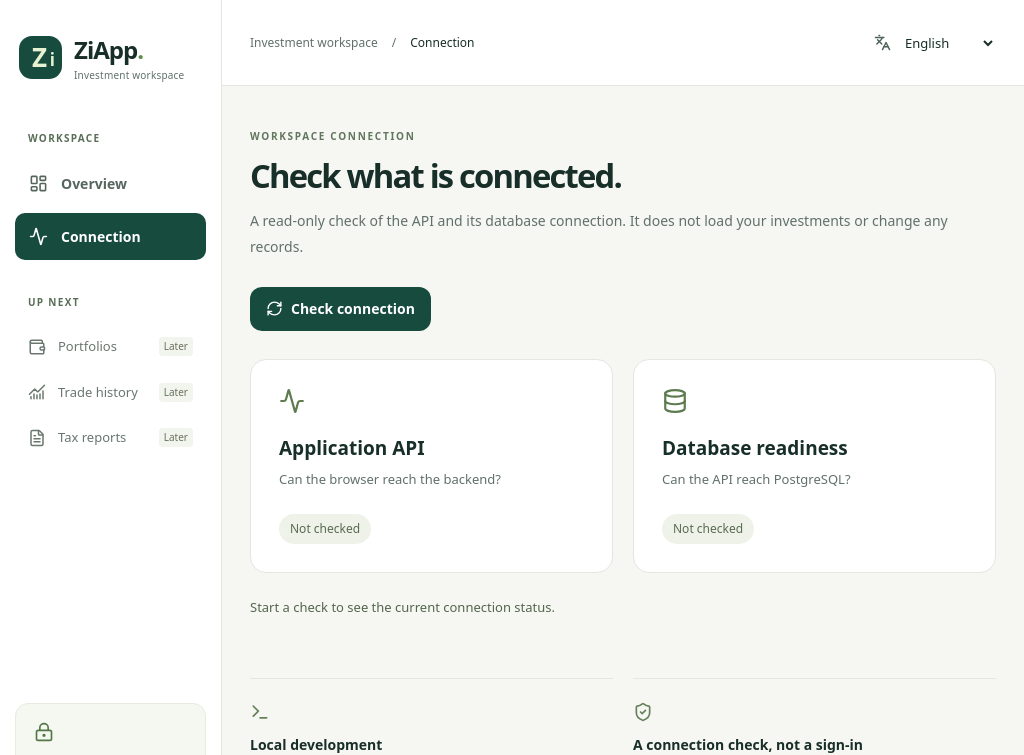
Test case: app foundation › switches languages without losing the current route
Select "Українська" in the dropdown at (946, 42), box [897,20,996,64]
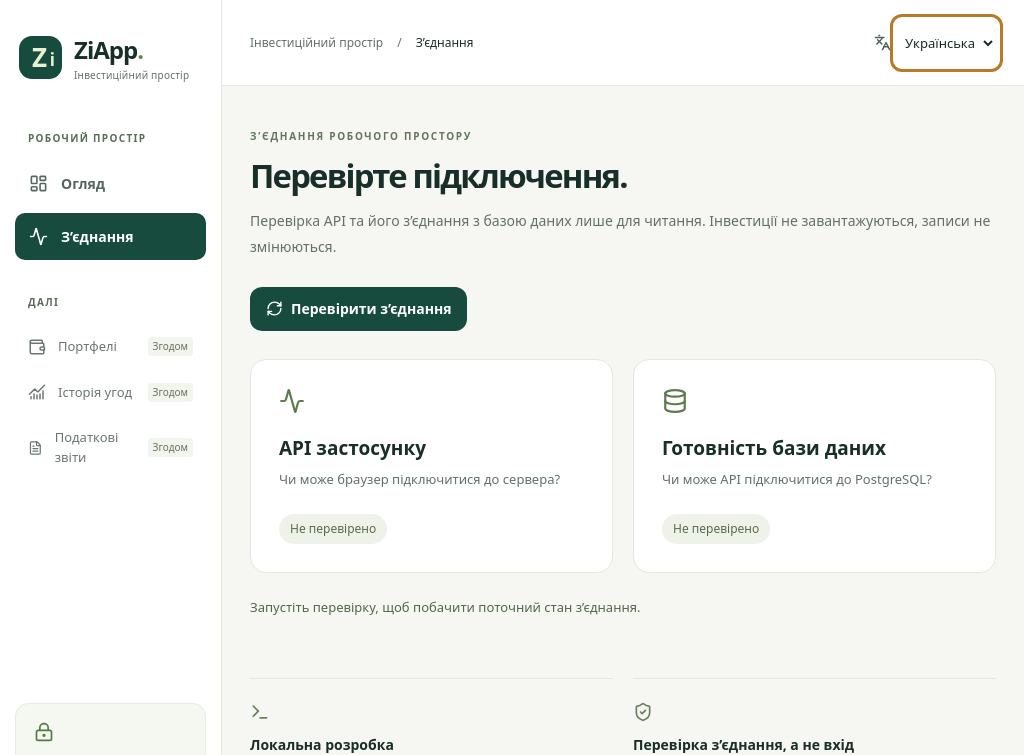
Expected: the heading "Перевірте підключення." is shown, [250,153,627,198]
Select "Русский" in the dropdown at (946, 42), box [897,20,996,64]
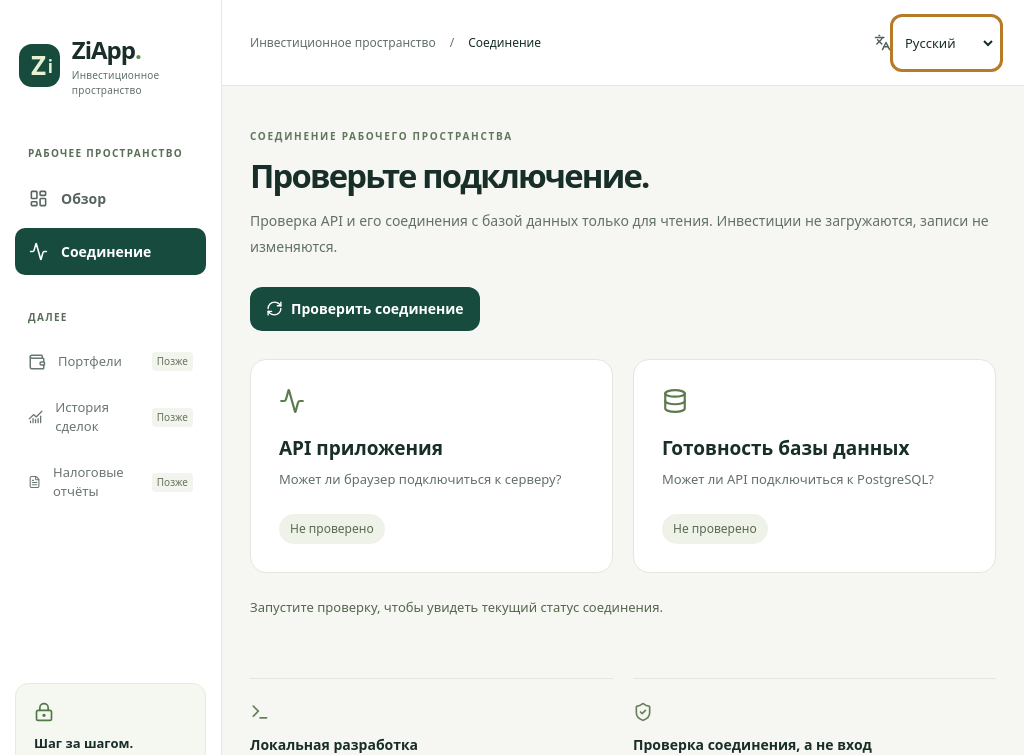
Expected: the heading "Проверьте подключение." is shown, [250,153,649,198]
